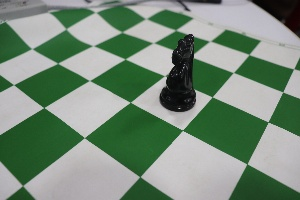black_horse: (151, 23, 207, 119)
